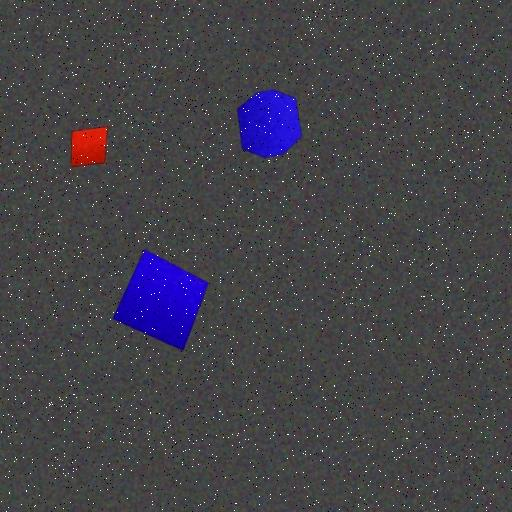BLUE_SQUARE: (112, 249, 209, 351)
RED_SQUARE: (70, 126, 109, 168)
